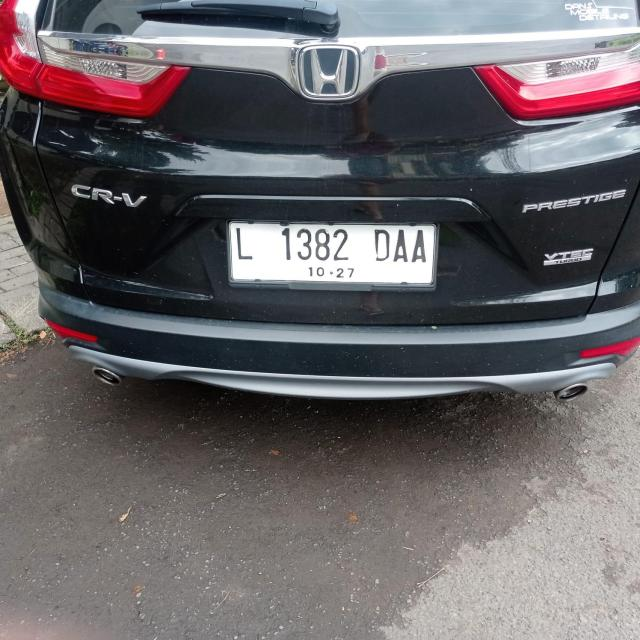license-plate: (229, 221, 438, 286)
